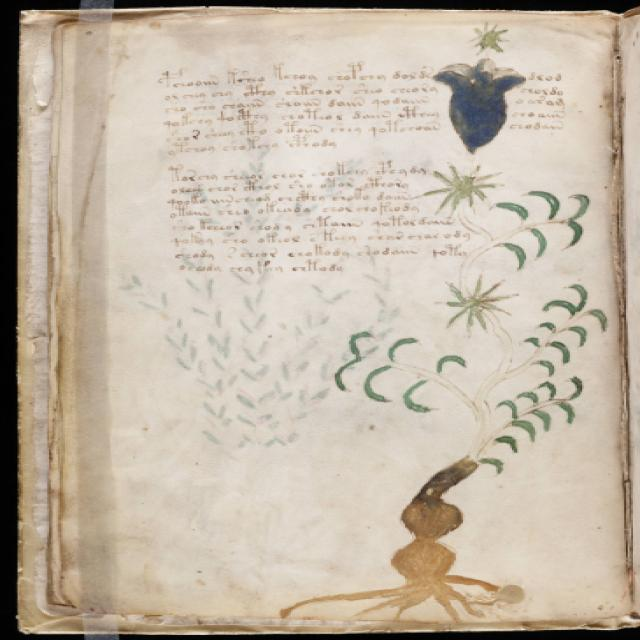plant: (271, 16, 611, 624)
